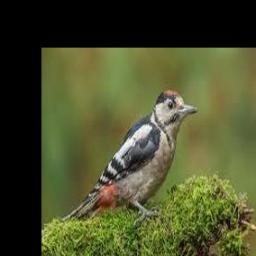Woodpecker: (63, 89, 197, 222)
